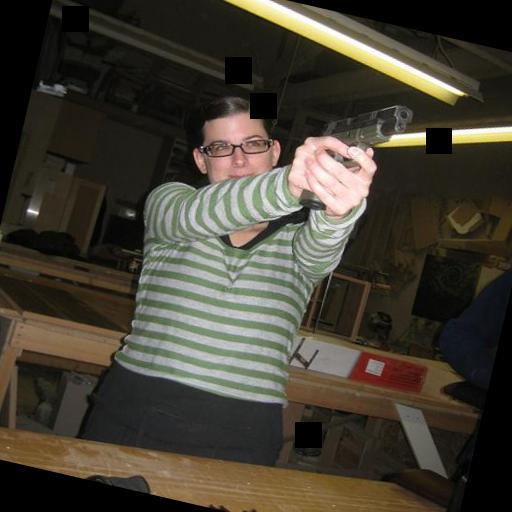Handgun: (297, 84, 414, 224)
